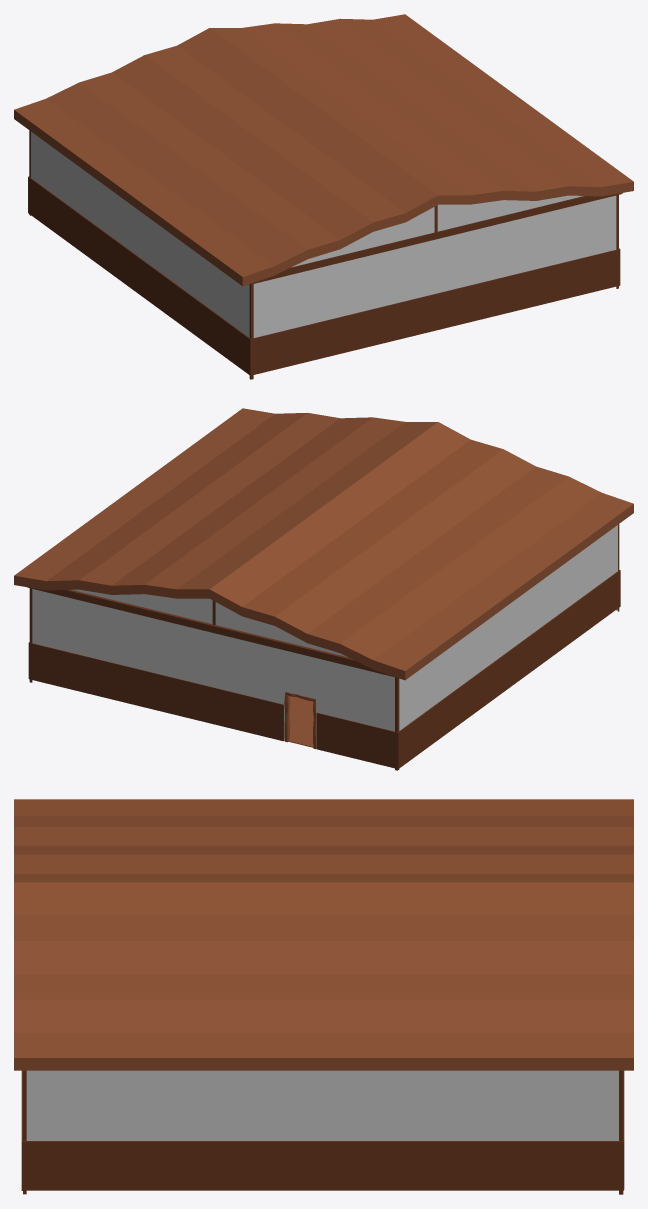
File: inn.fbx
3 renders of one model, top to bottom at view 1: azimuth 30°, elevation 25°; view 2: azimuth 150°, elevation 25°; view 3: azimuth 270°, elevation 25°, orthographic. The views are drawn at different scales.
Parts seen in each view (by area): view 1: Cube; view 2: Cube; view 3: Cube.
Part boxes in pixels (bbox=[...]): Cube: bbox=[14, 14, 633, 379]; Cube: bbox=[14, 408, 633, 770]; Cube: bbox=[14, 799, 633, 1194].
Size of the model in its own units: 8812 by 3054 by 8925.
